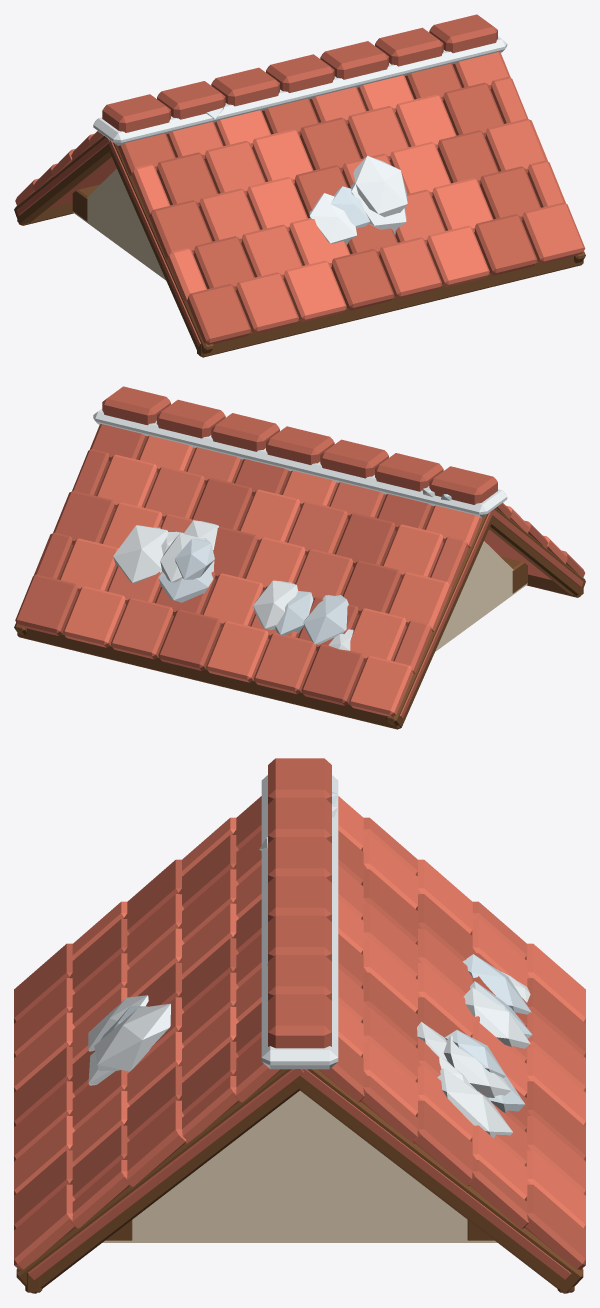
The model's file is mod_roof_lighthouse_cottage.glb.
The picture shows the model from 3 angles, top to bottom: view 1: azimuth 30°, elevation 25°; view 2: azimuth 150°, elevation 25°; view 3: azimuth 270°, elevation 25°; orthographic projection. The views are drawn at different scales.
Parts seen in each view (by area): view 1: mod_roof_lighthouse_cottage; view 2: mod_roof_lighthouse_cottage; view 3: mod_roof_lighthouse_cottage.
Part boxes in pixels (x1,y1,x2,y2): mod_roof_lighthouse_cottage: (14,14,585,357); mod_roof_lighthouse_cottage: (14,386,585,729); mod_roof_lighthouse_cottage: (14,758,585,1293).
Bounding box in the file's own units: 3.16 × 1.37 × 2.69.
